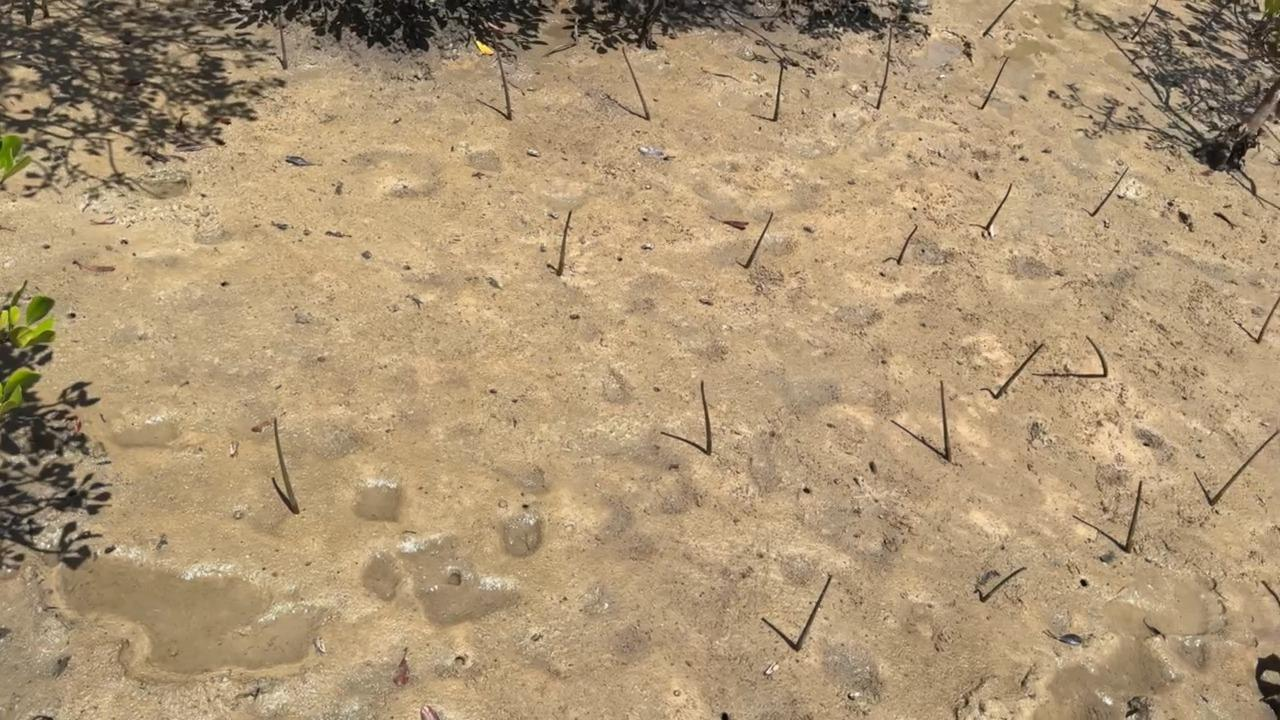Tree: (1209, 429, 1280, 505), (795, 576, 833, 652), (995, 343, 1044, 399), (274, 416, 299, 514), (621, 47, 650, 121), (1091, 167, 1128, 218), (493, 38, 514, 121), (744, 211, 775, 267), (981, 566, 1027, 603), (980, 59, 1008, 111), (1125, 481, 1142, 555), (982, 0, 1015, 37), (877, 28, 892, 109), (985, 184, 1011, 230), (1258, 296, 1280, 344), (1132, 0, 1159, 39), (557, 210, 572, 278), (939, 380, 951, 462), (1086, 336, 1108, 378), (701, 381, 713, 456), (896, 226, 918, 265), (278, 14, 289, 69), (774, 64, 784, 122)
